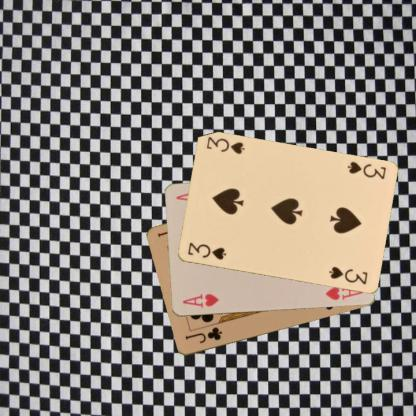3s: (344, 159, 387, 181), (185, 240, 227, 262)
Ah: (180, 291, 220, 310)
Jc: (182, 325, 223, 345)
